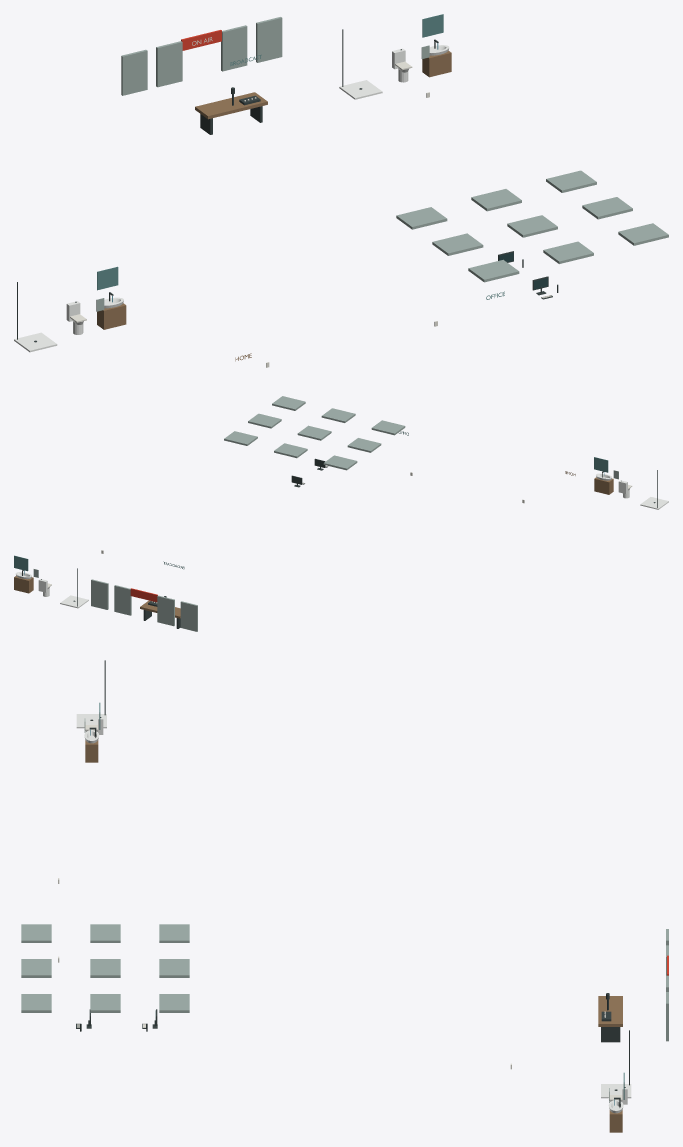
The model's file is facilities-v6.glb.
The picture shows the model from 3 angles, top to bottom: view 1: azimuth 30°, elevation 25°; view 2: azimuth 150°, elevation 25°; view 3: azimuth 270°, elevation 25°; orthographic projection. The views are drawn at different scales.
Visible parts, largest first — view 1: V6StaticFacilities_0, V6StaticFacilities_3, V6StaticFacilities_1, V6StaticFacilities_2, V6StaticFacilities_4; view 2: V6StaticFacilities_0, V6StaticFacilities_1, V6StaticFacilities_3, V6StaticFacilities_2, V6StaticFacilities_4; view 3: V6StaticFacilities_0, V6StaticFacilities_3, V6StaticFacilities_1, V6StaticFacilities_2.
Part boxes in pixels (x1,y1,x2,y2): V6StaticFacilities_0: [96, 17, 668, 311]; V6StaticFacilities_3: [97, 50, 451, 361]; V6StaticFacilities_1: [14, 45, 449, 352]; V6StaticFacilities_2: [17, 29, 558, 342]; V6StaticFacilities_4: [97, 14, 504, 299]; V6StaticFacilities_0: [33, 396, 618, 631]; V6StaticFacilities_1: [15, 473, 668, 608]; V6StaticFacilities_3: [14, 471, 613, 618]; V6StaticFacilities_2: [22, 458, 657, 628]; V6StaticFacilities_4: [14, 431, 608, 571]; V6StaticFacilities_0: [21, 718, 668, 1102]; V6StaticFacilities_3: [85, 740, 622, 1132]; V6StaticFacilities_1: [76, 714, 631, 1113]; V6StaticFacilities_2: [76, 660, 629, 1106].
Bounding box in the file's own units: 28.07 × 5.85 × 23.73.
